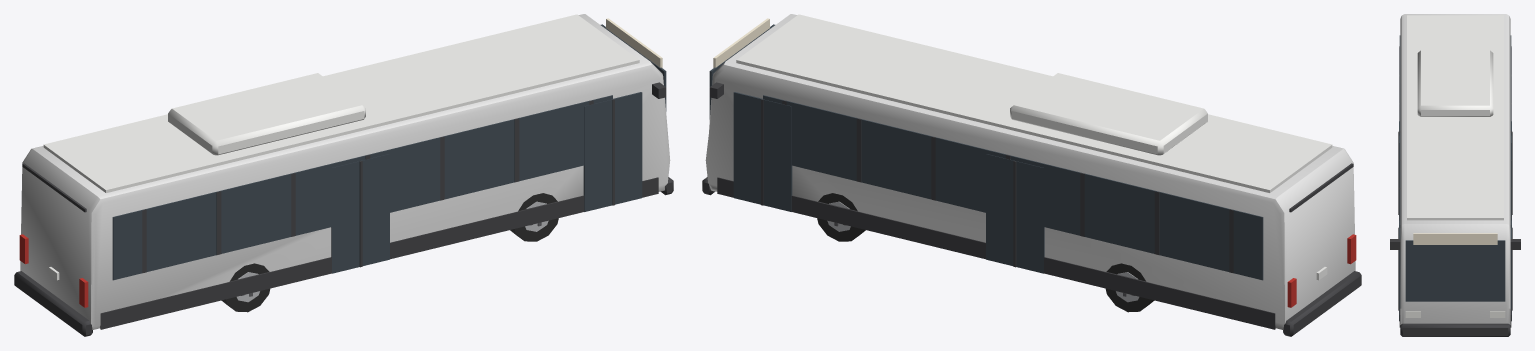
The model's file is bus.glb.
The picture shows the model from 3 angles, left to right: view 1: azimuth 30°, elevation 25°; view 2: azimuth 150°, elevation 25°; view 3: azimuth 270°, elevation 25°; orthographic projection. The views are drawn at different scales.
Parts seen in each view (by area): view 1: bus; view 2: bus; view 3: bus.
Part boxes in pixels (left/top/right/bottom): bus: left=14, top=14, right=673, bottom=336; bus: left=702, top=14, right=1361, bottom=336; bus: left=1390, top=14, right=1520, bottom=336.
Bounding box in the file's own units: 12.3 × 3.33 × 3.03.
